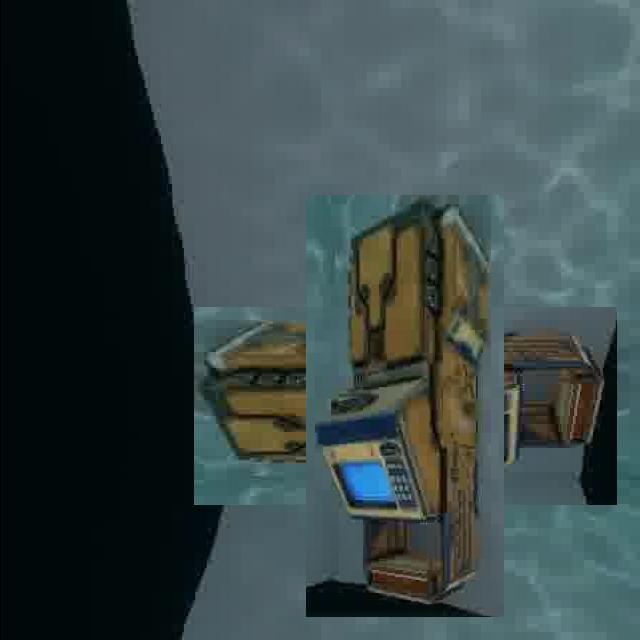Control Panel: (250, 251, 560, 561)
